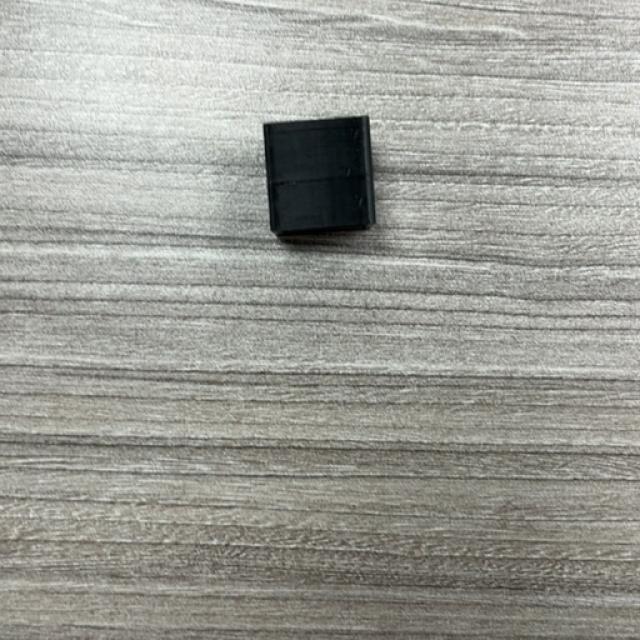Negro: (262, 116, 378, 241)
